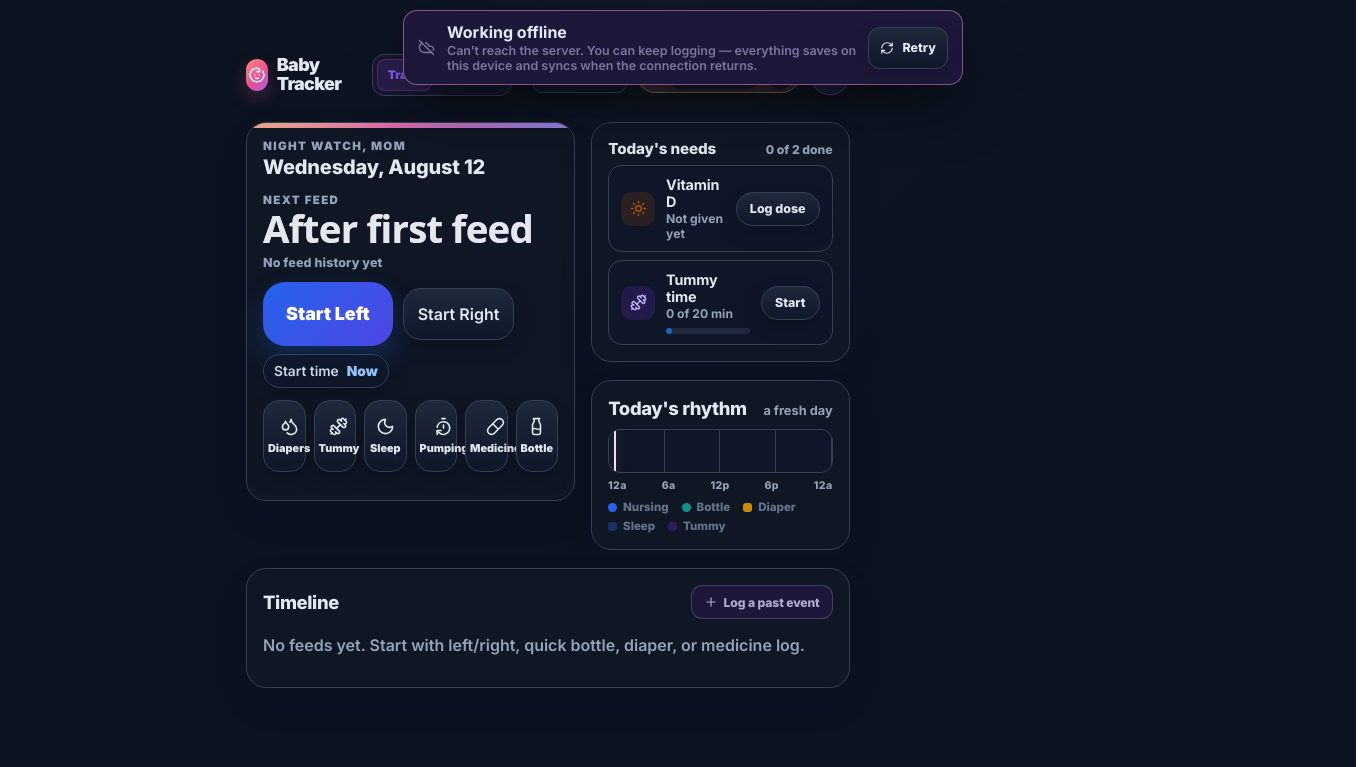
Test case: App interactions › logs a quick bottle entry and shows toast feedback
What coordinates should you click on to do the following:
click the button "Bottle"
I would click on:
 (537, 436)
Its box is [516,400,558,472].
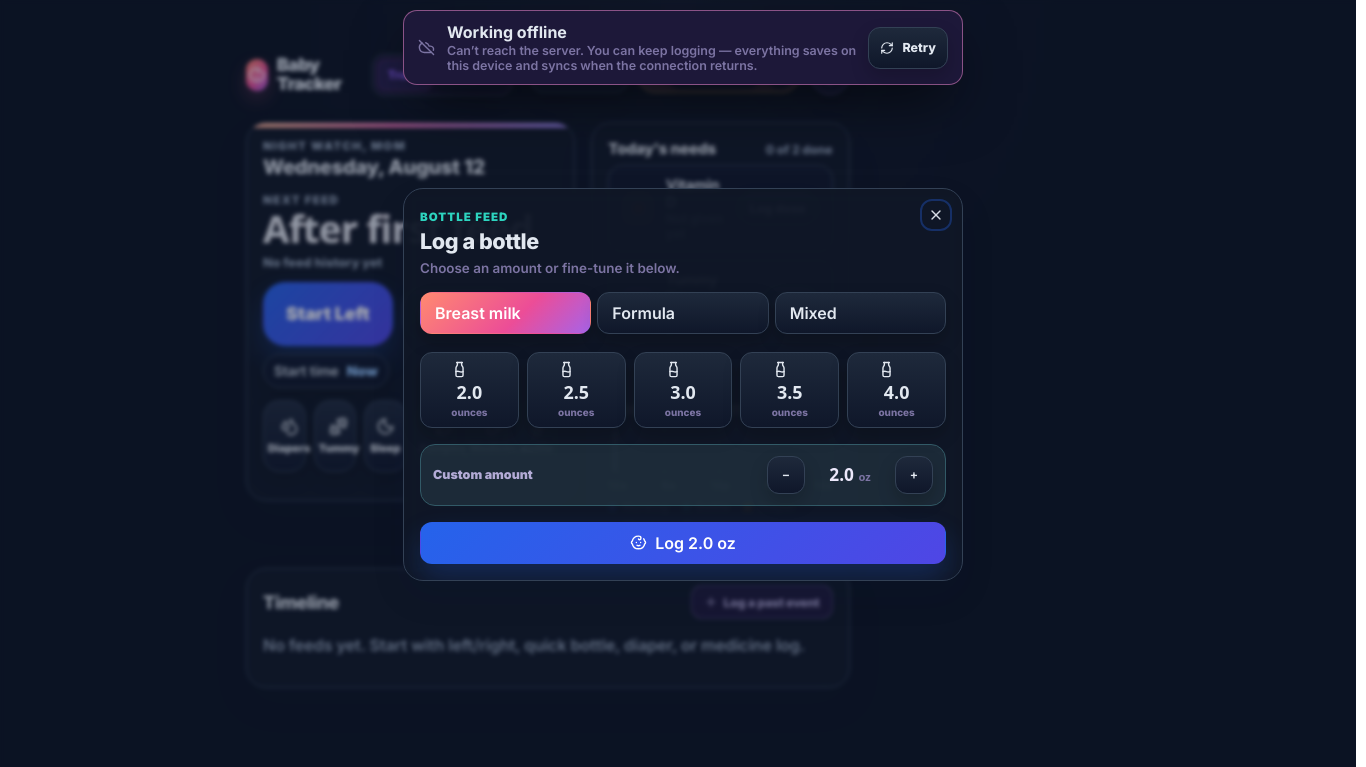
What coordinates should you click on to do the following:
click the button with aria-label "Log bottle"
I would click on:
 (683, 542)
Its box is [420,522,946,564].
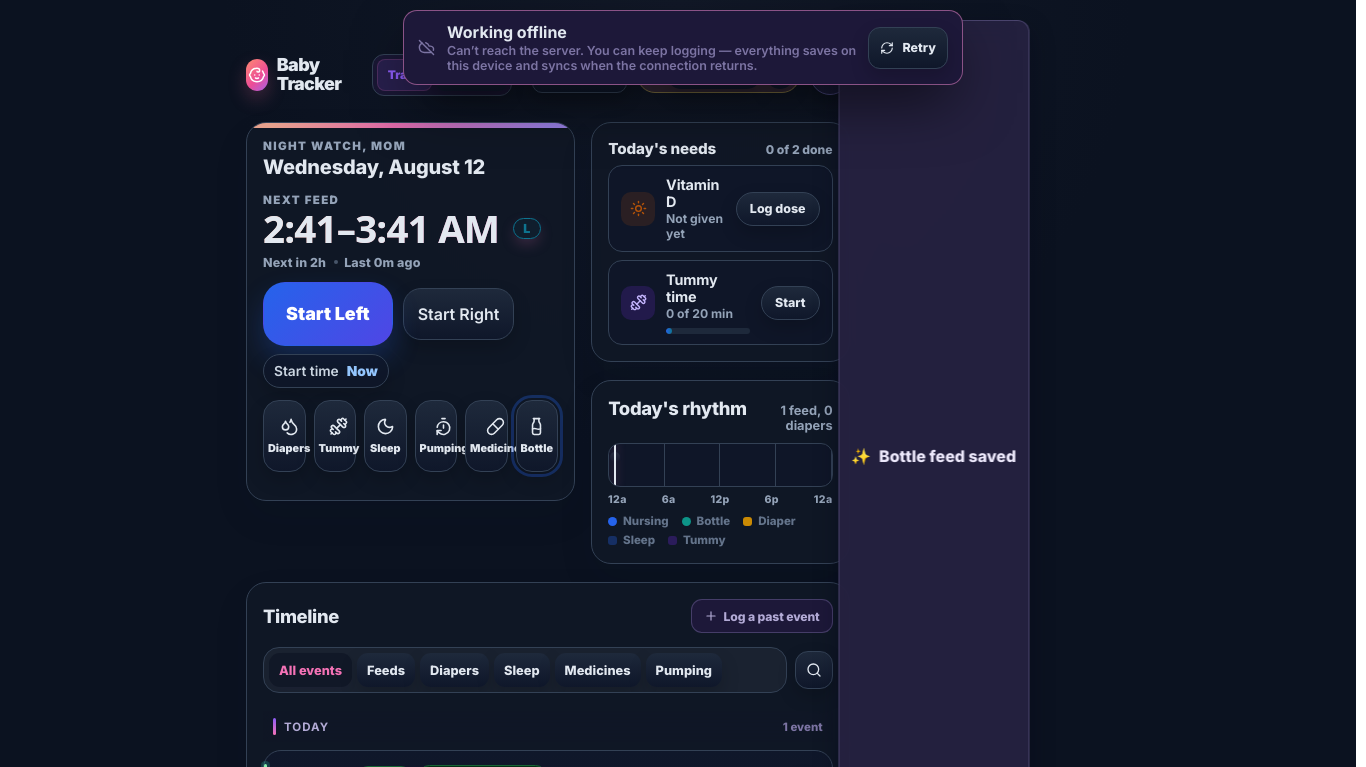
Check: the text "Bottle feed saved" is shown, box [879,446,1016,466]
